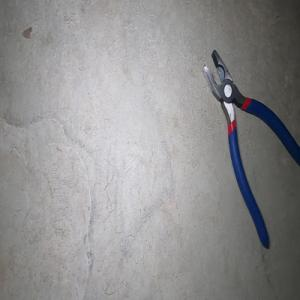Pliers: (202, 49, 300, 249)
